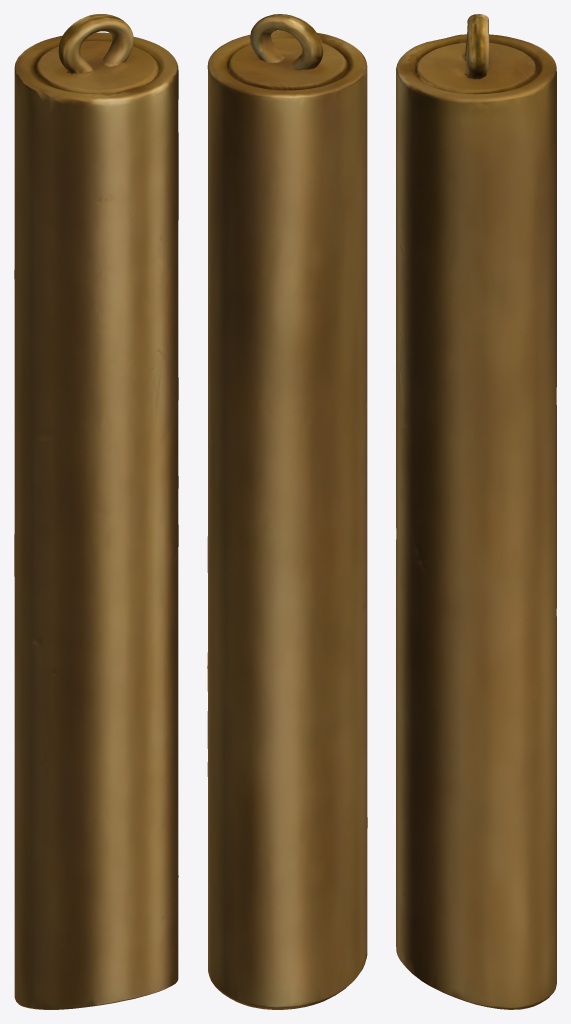
The model's file is wind_tube.glb.
3 renders of one model, left to right at view 1: azimuth 30°, elevation 25°; view 2: azimuth 150°, elevation 25°; view 3: azimuth 270°, elevation 25°, orthographic. The views are drawn at different scales.
Parts seen in each view (by area): view 1: tripo_node_25c2b8ae-53e1-4b7a-a9d0-4b6d2f07e635; view 2: tripo_node_25c2b8ae-53e1-4b7a-a9d0-4b6d2f07e635; view 3: tripo_node_25c2b8ae-53e1-4b7a-a9d0-4b6d2f07e635.
Boxes of the visible parts, left/top/right/bottom form: tripo_node_25c2b8ae-53e1-4b7a-a9d0-4b6d2f07e635: left=14, top=14, right=178, bottom=1009; tripo_node_25c2b8ae-53e1-4b7a-a9d0-4b6d2f07e635: left=207, top=14, right=367, bottom=1009; tripo_node_25c2b8ae-53e1-4b7a-a9d0-4b6d2f07e635: left=396, top=14, right=556, bottom=1009.
Bounding box in the file's own units: 0.036 × 0.24 × 0.036.
1 material, 1 textured.
